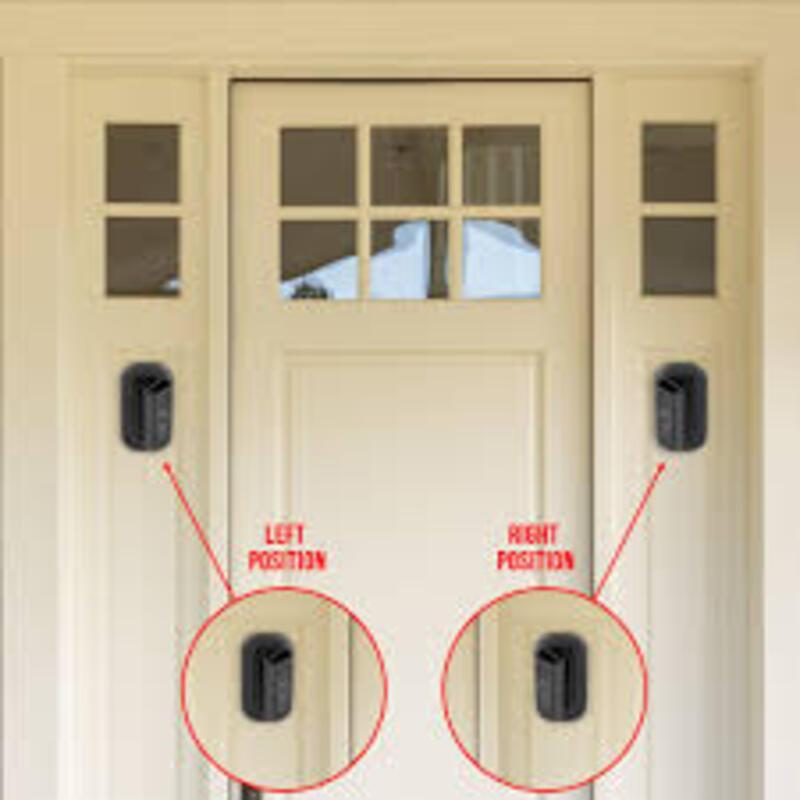doorbell: (121, 365, 181, 466), (643, 363, 688, 459), (531, 639, 568, 730), (258, 646, 295, 728)
